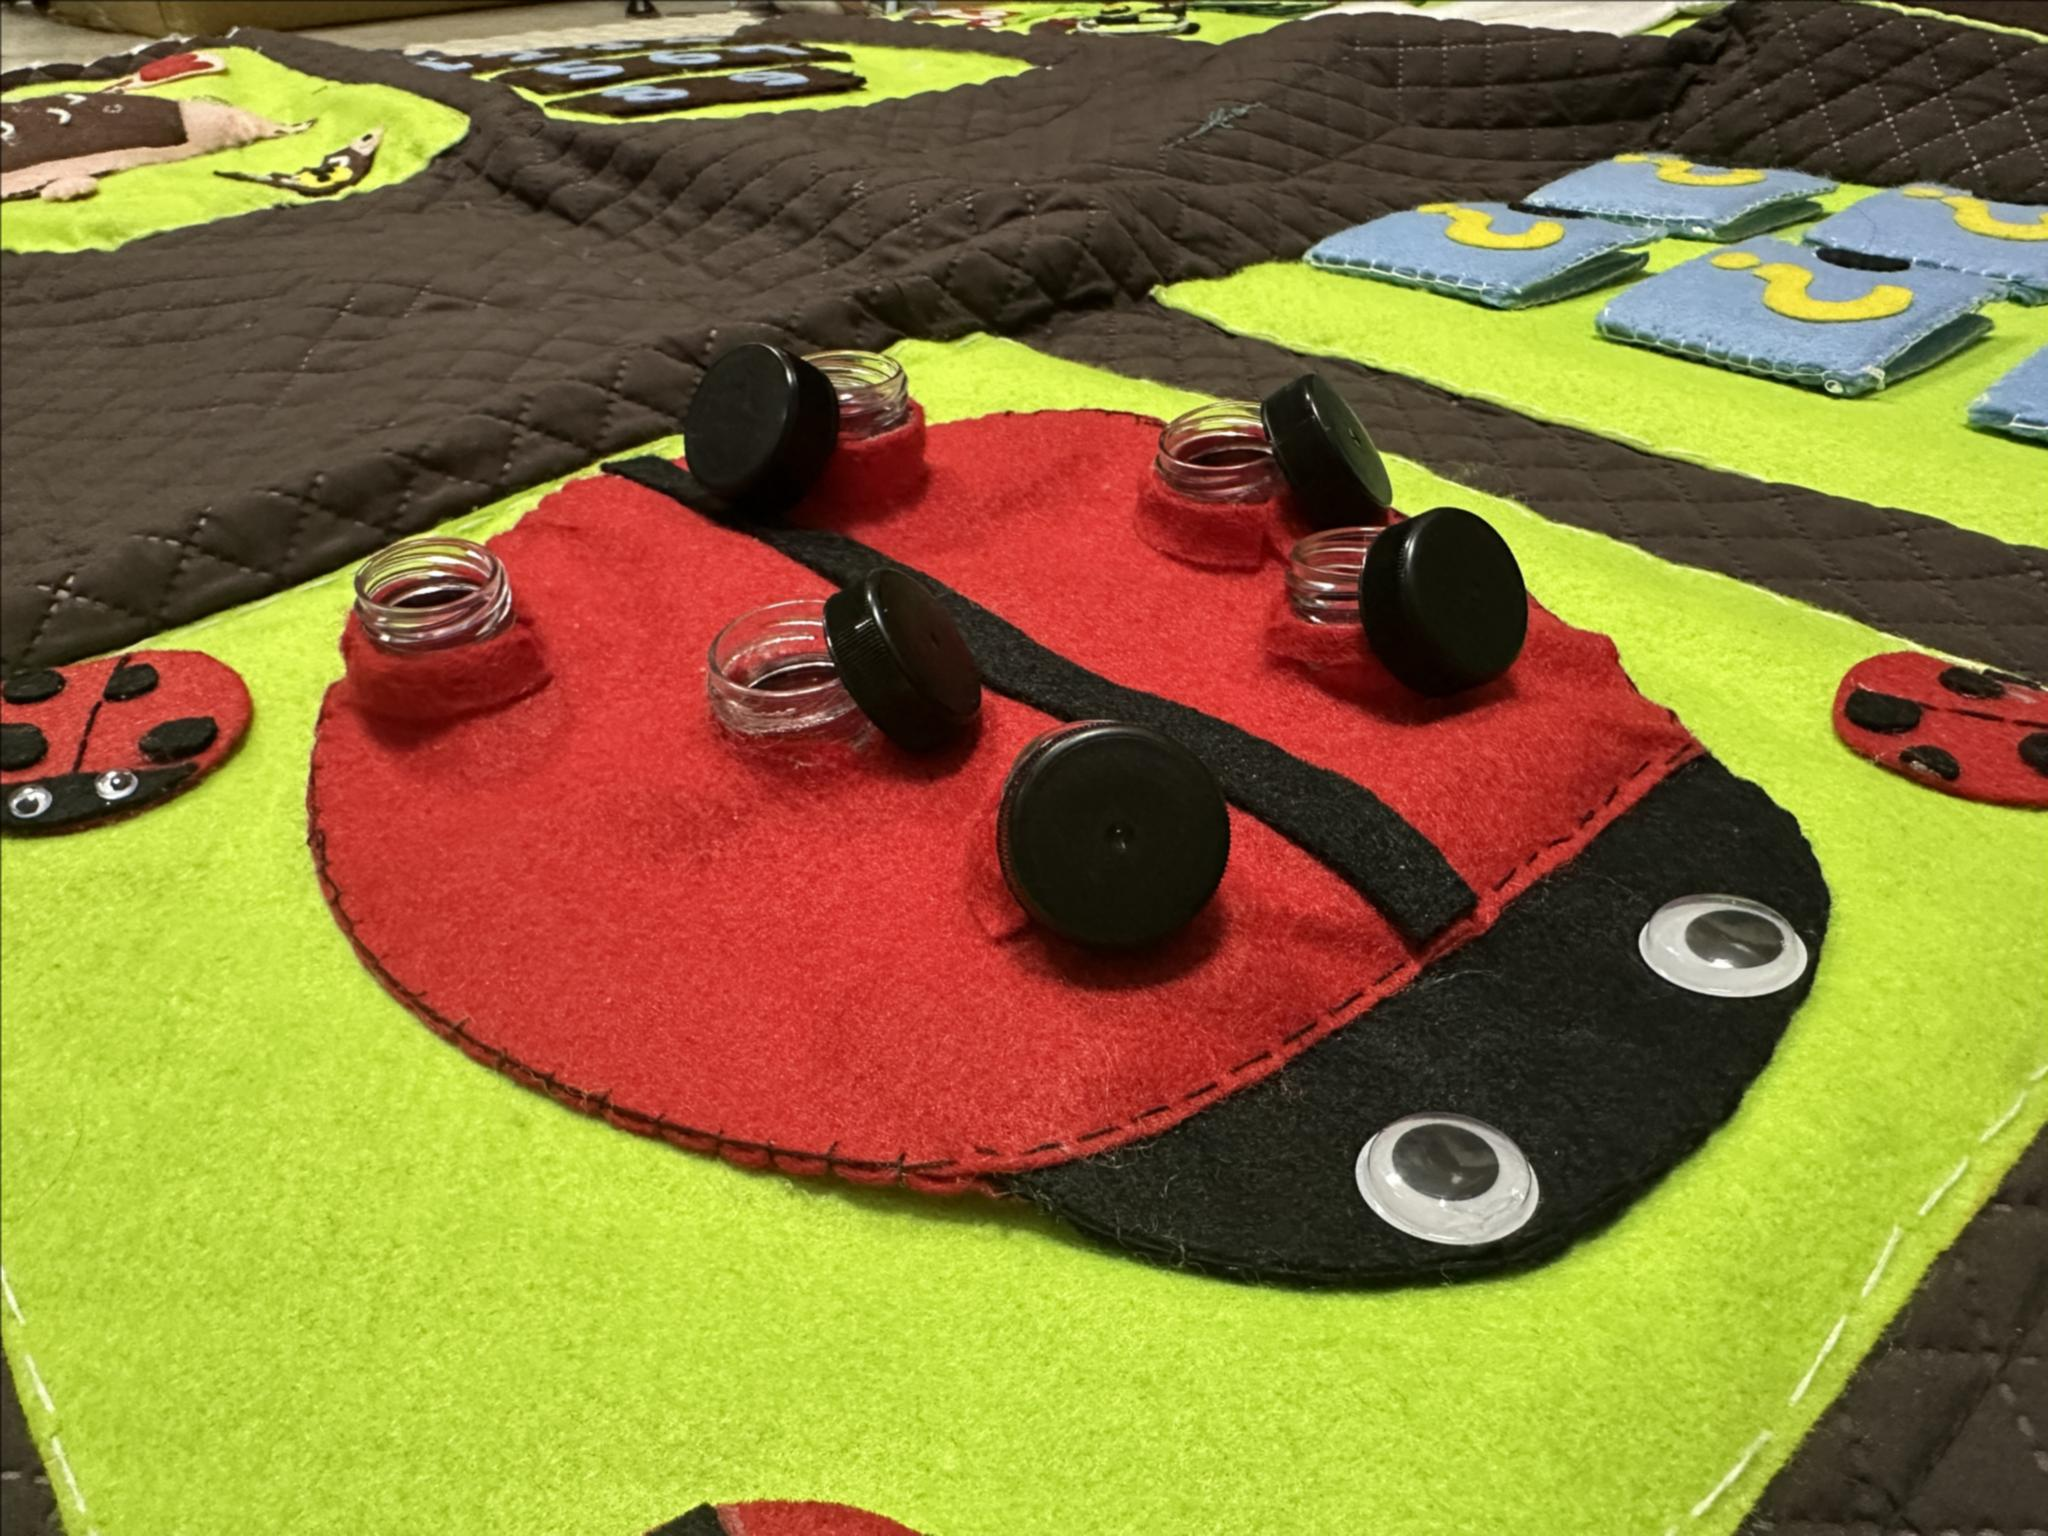cap_ng: (968, 699, 1261, 994), (689, 561, 992, 784), (1279, 503, 1555, 721), (1126, 366, 1403, 561), (677, 334, 950, 531)
